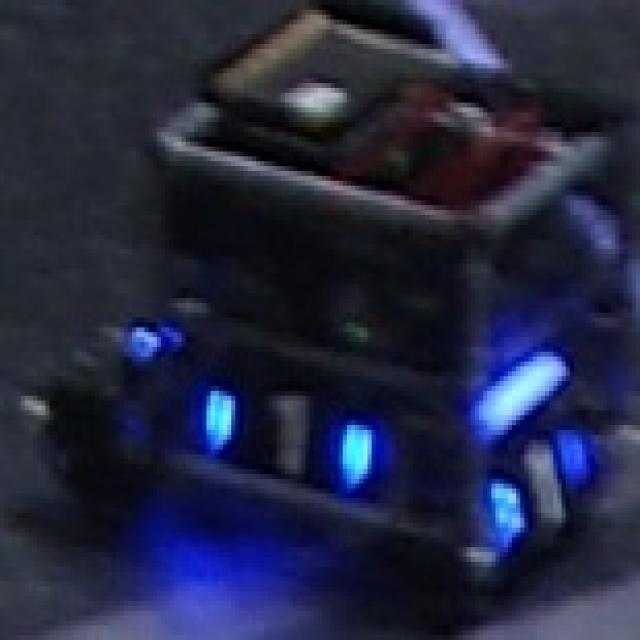B1: (206, 381, 376, 484), (492, 420, 590, 533)
